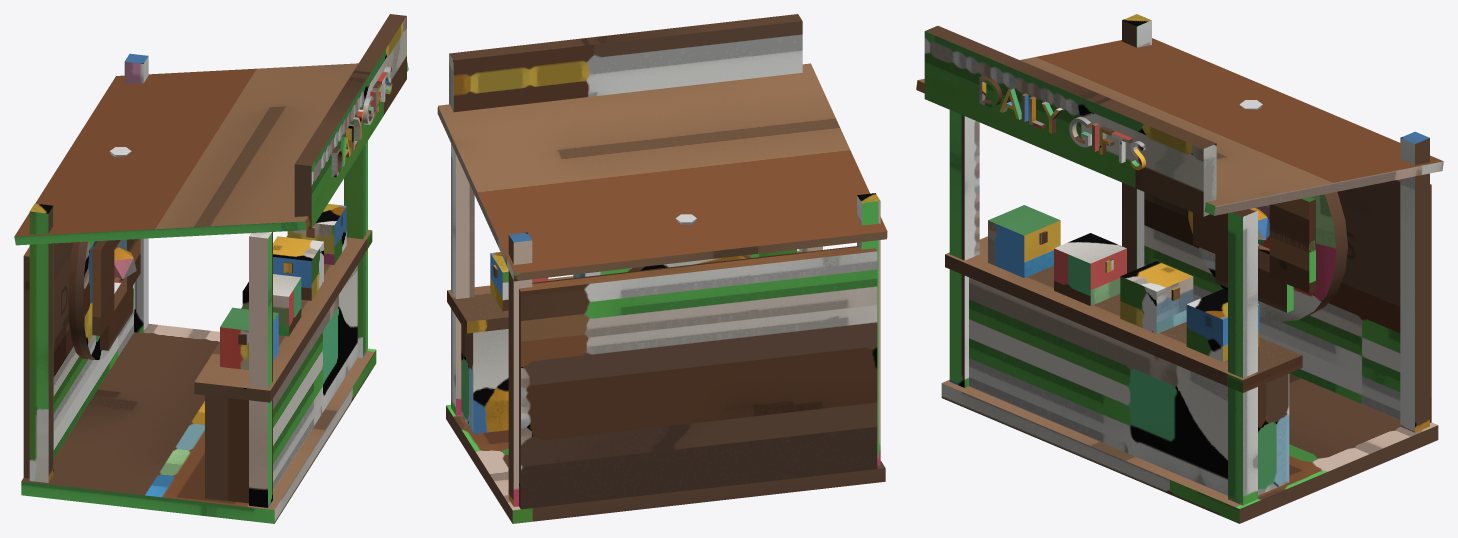
The model's file is hub_gifts.fbx.
3 views of the same model, side by side, from view 1: azimuth 30°, elevation 25°; view 2: azimuth 150°, elevation 25°; view 3: azimuth 270°, elevation 25° (orthographic). The views are drawn at different scales.
Parts seen in each view (by area): view 1: hub_gifts_body; view 2: hub_gifts_body; view 3: hub_gifts_body.
Part boxes in pixels (bbox=[...]): hub_gifts_body: bbox=[14, 14, 408, 523]; hub_gifts_body: bbox=[437, 14, 887, 523]; hub_gifts_body: bbox=[916, 14, 1443, 523].
Size of the model in its own units: 1127 by 900 by 1127.
2 materials, 1 textured.
